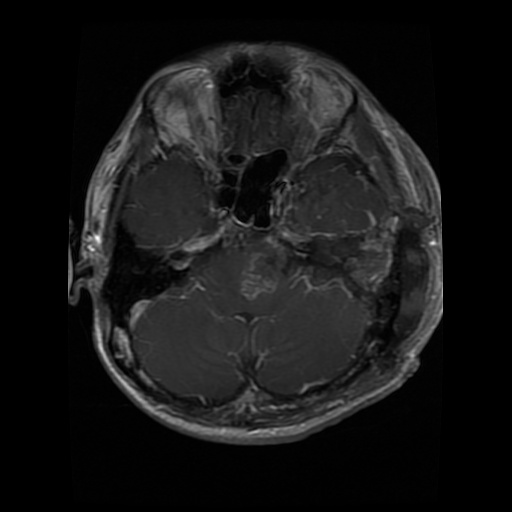glioma: (237, 251, 279, 299)
